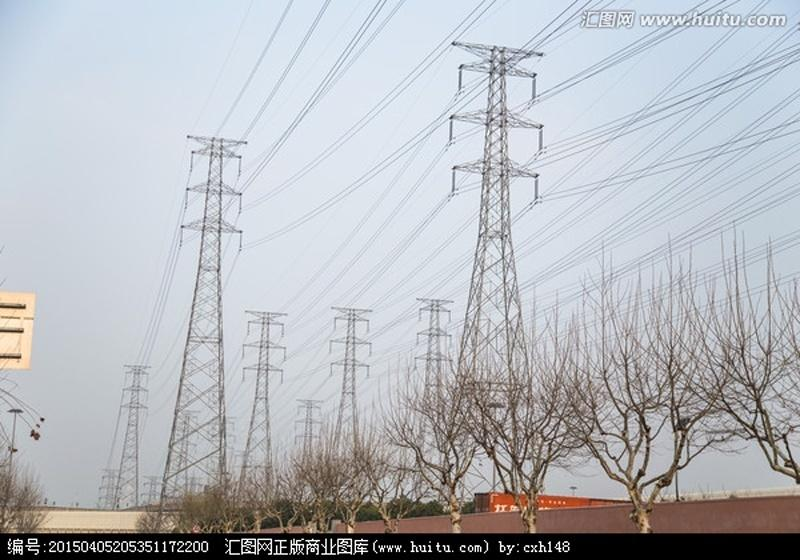power_tower: (439, 29, 570, 489), (161, 121, 242, 504), (234, 302, 298, 497), (319, 293, 375, 505), (412, 295, 457, 475), (114, 368, 152, 506), (285, 391, 334, 477)
